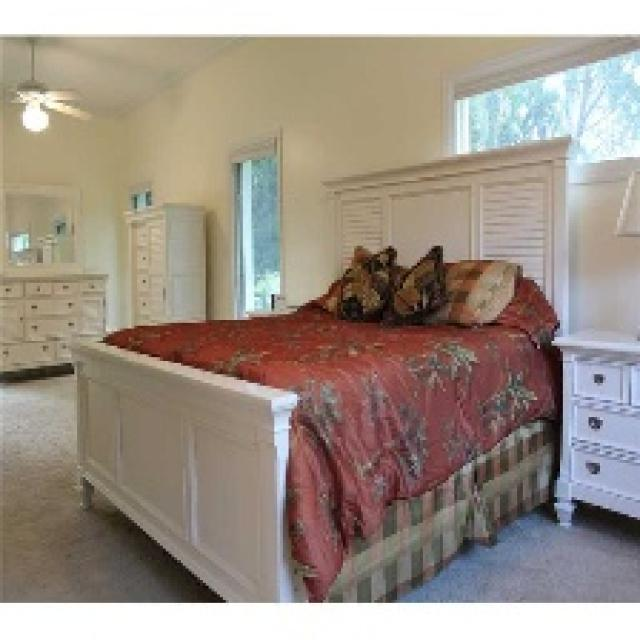Bed: (66, 131, 571, 600)
